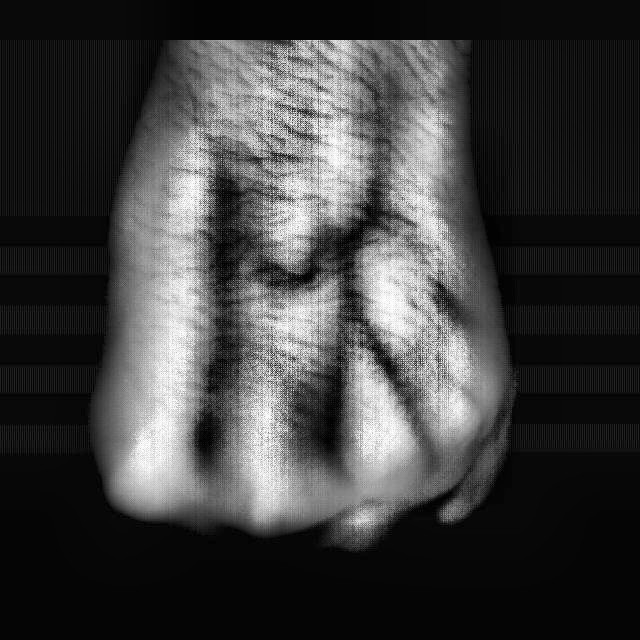Vein: (206, 170, 244, 375)
